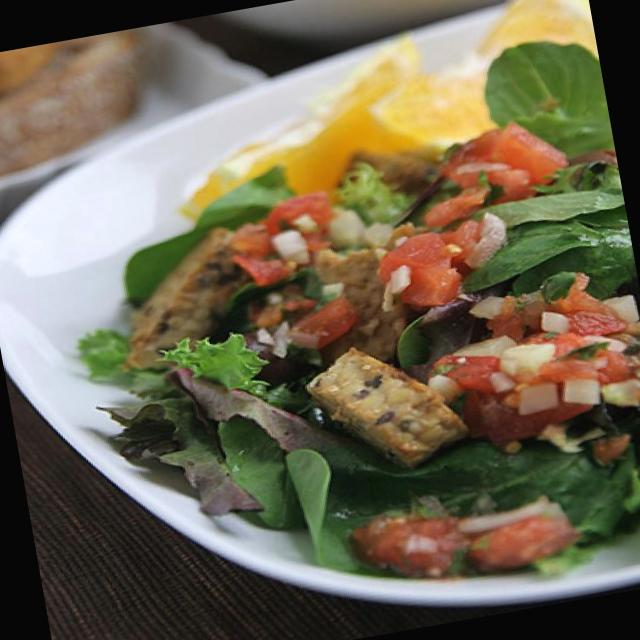Green Salad: (97, 40, 640, 605)
